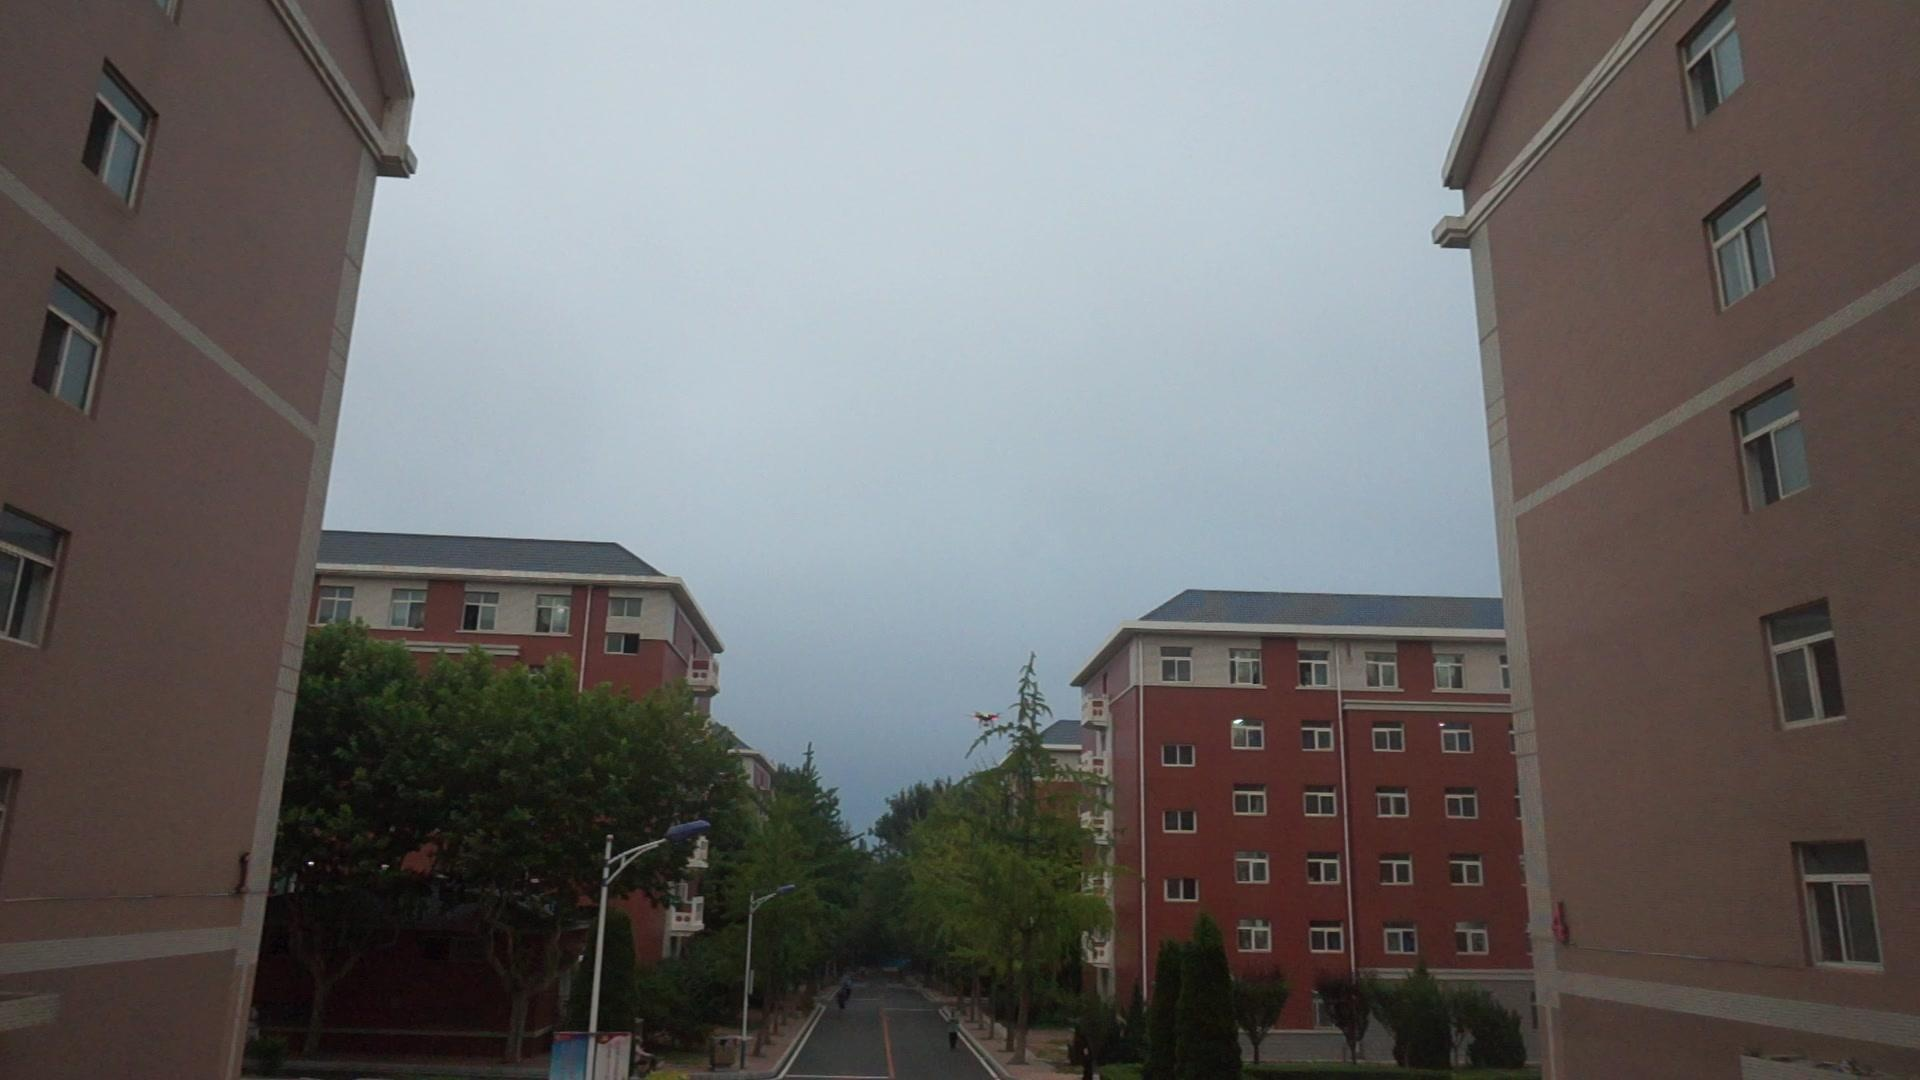UAV: (972, 713, 1004, 729)
